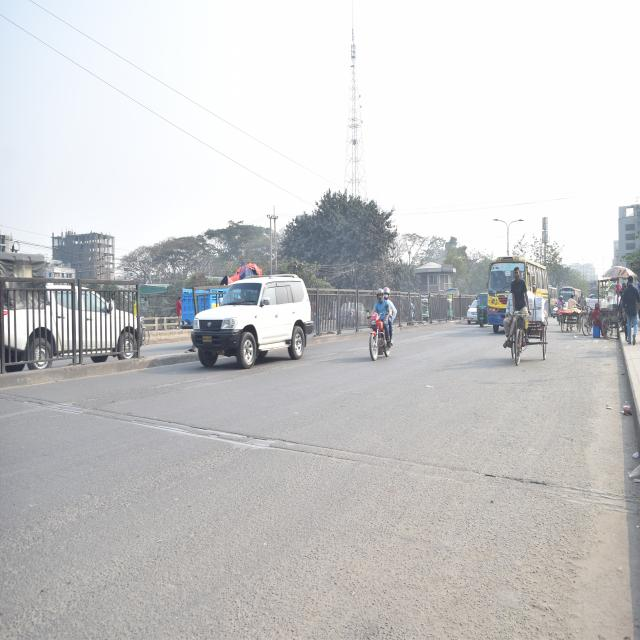bus: (488, 260, 550, 328), (560, 284, 580, 310)
car: (183, 272, 317, 373), (462, 294, 478, 328)
motorbike: (360, 301, 398, 369), (556, 302, 563, 326)
